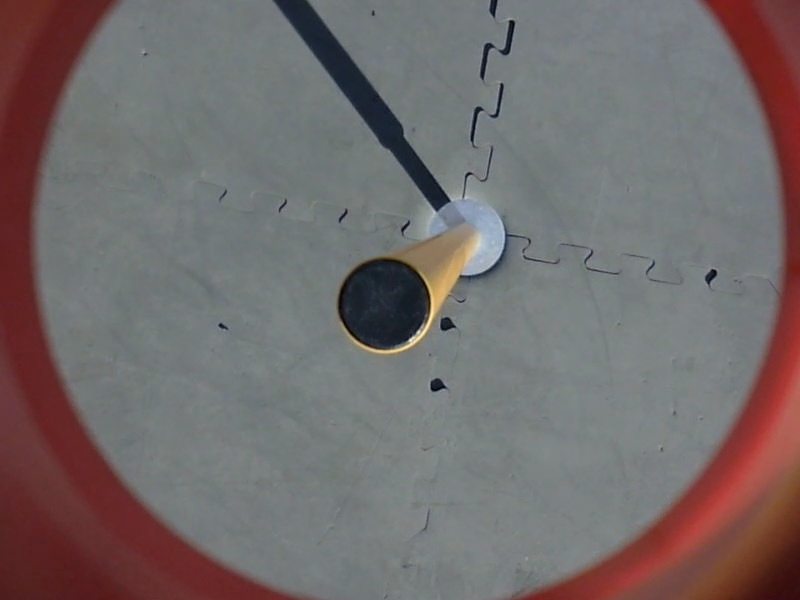tip: (334, 249, 439, 360)
